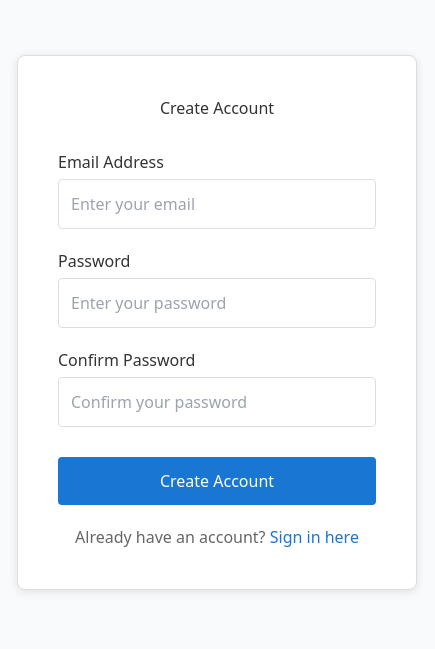
Test: SignUpPage › should clear field errors when user starts typing
# Trigger validation error
Click the button "Create Account" at (217, 480), box top-left (58, 456), bottom-right (376, 504)
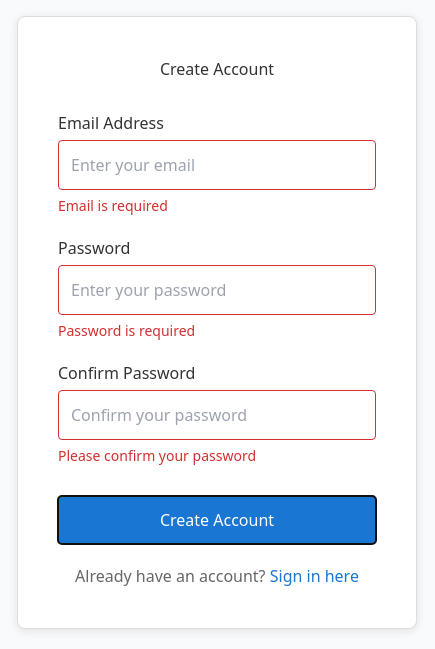
Check: the text "Email is required" is shown, box top-left (58, 196), bottom-right (168, 214)
# Start typing to clear error
Type "t" into the field labelled "Email Address" at (217, 164), box top-left (58, 140), bottom-right (376, 190)
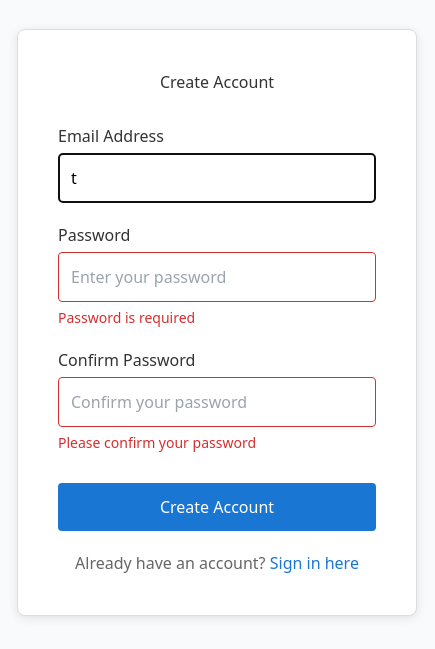
Check: the text "Email is required" is gone
